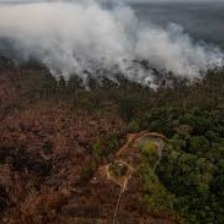incendio: (165, 26, 222, 86), (51, 53, 138, 88), (1, 43, 68, 81), (141, 60, 189, 95)
